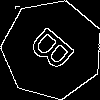B: (27, 24, 84, 80)
